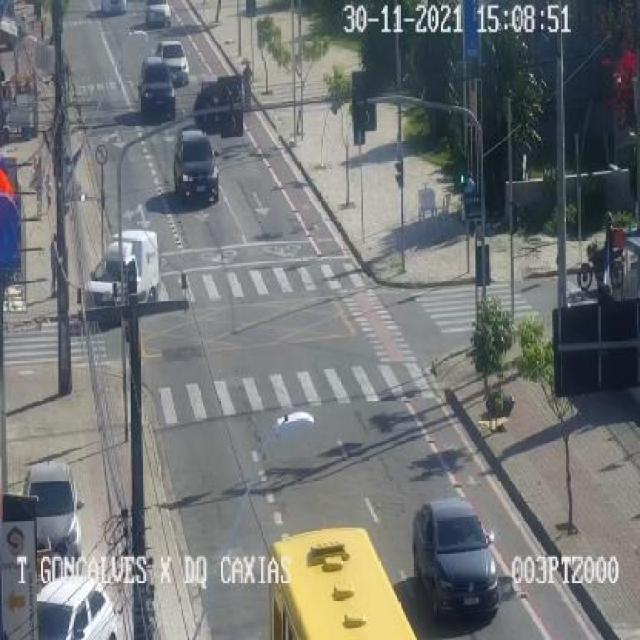bus: (272, 529, 416, 640)
car: (414, 499, 499, 616), (86, 230, 160, 307), (26, 462, 81, 557), (38, 576, 118, 640), (175, 130, 219, 202), (139, 58, 175, 121), (156, 41, 189, 87), (146, 0, 171, 28), (101, 0, 126, 16)
